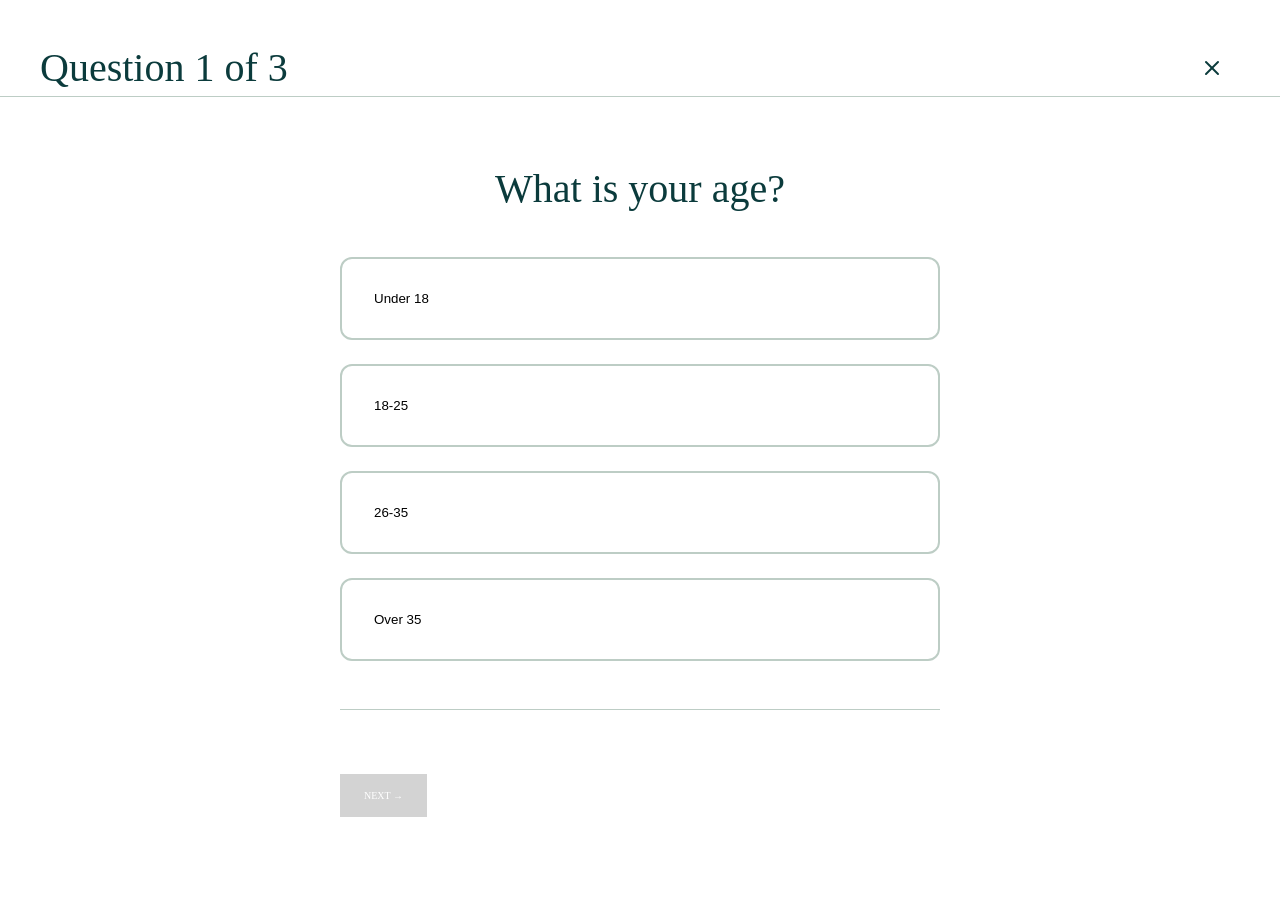
Scenario: QuestionaireModal › Question Navigation - Happy Path › shows results after completing all questions
Expected: the heading "What is your age?" is shown, [495,166,785,211]
Click the button "18-25": click(391, 406) [340,364,940,447]
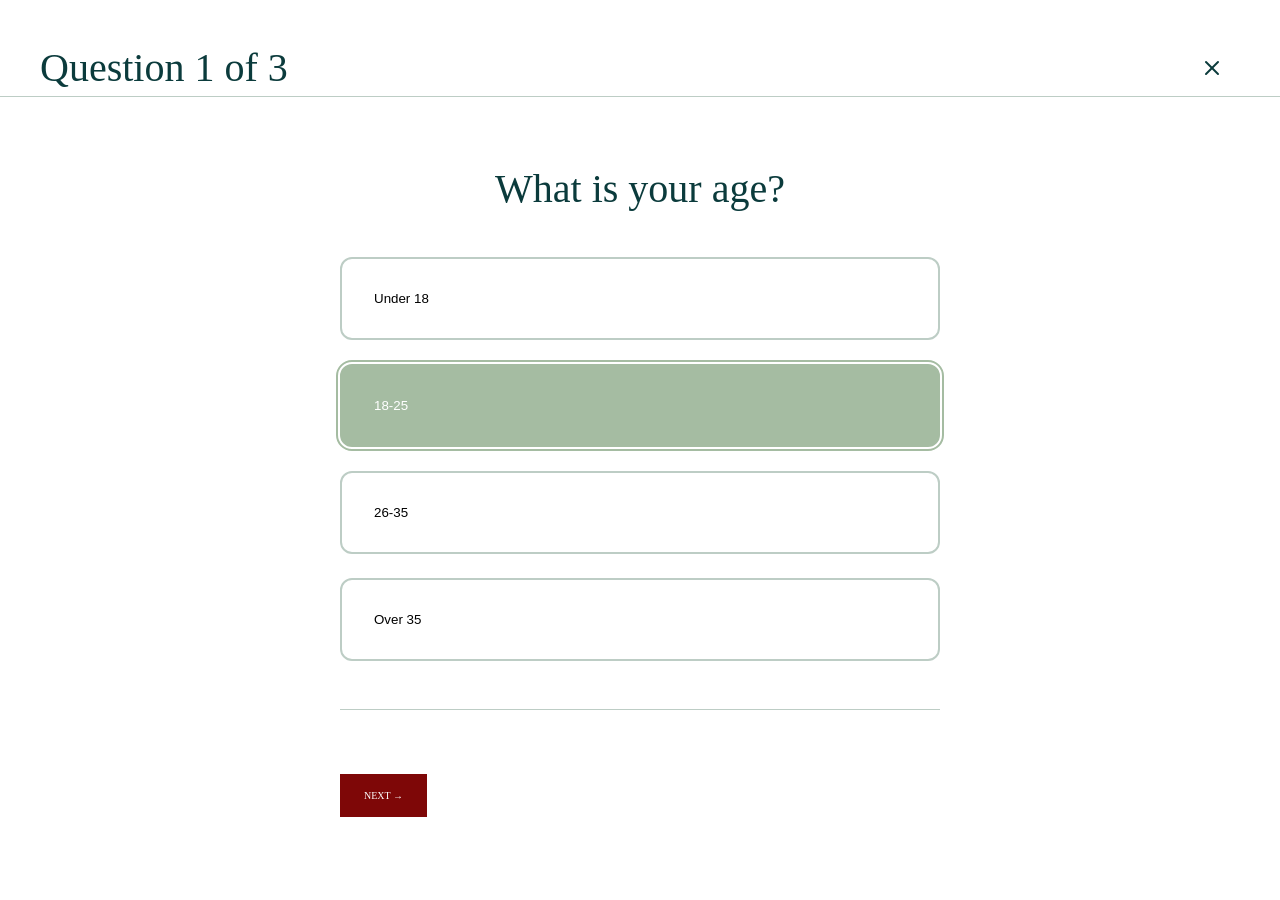
Click the button "Next →": click(384, 796) [340,774,427,817]
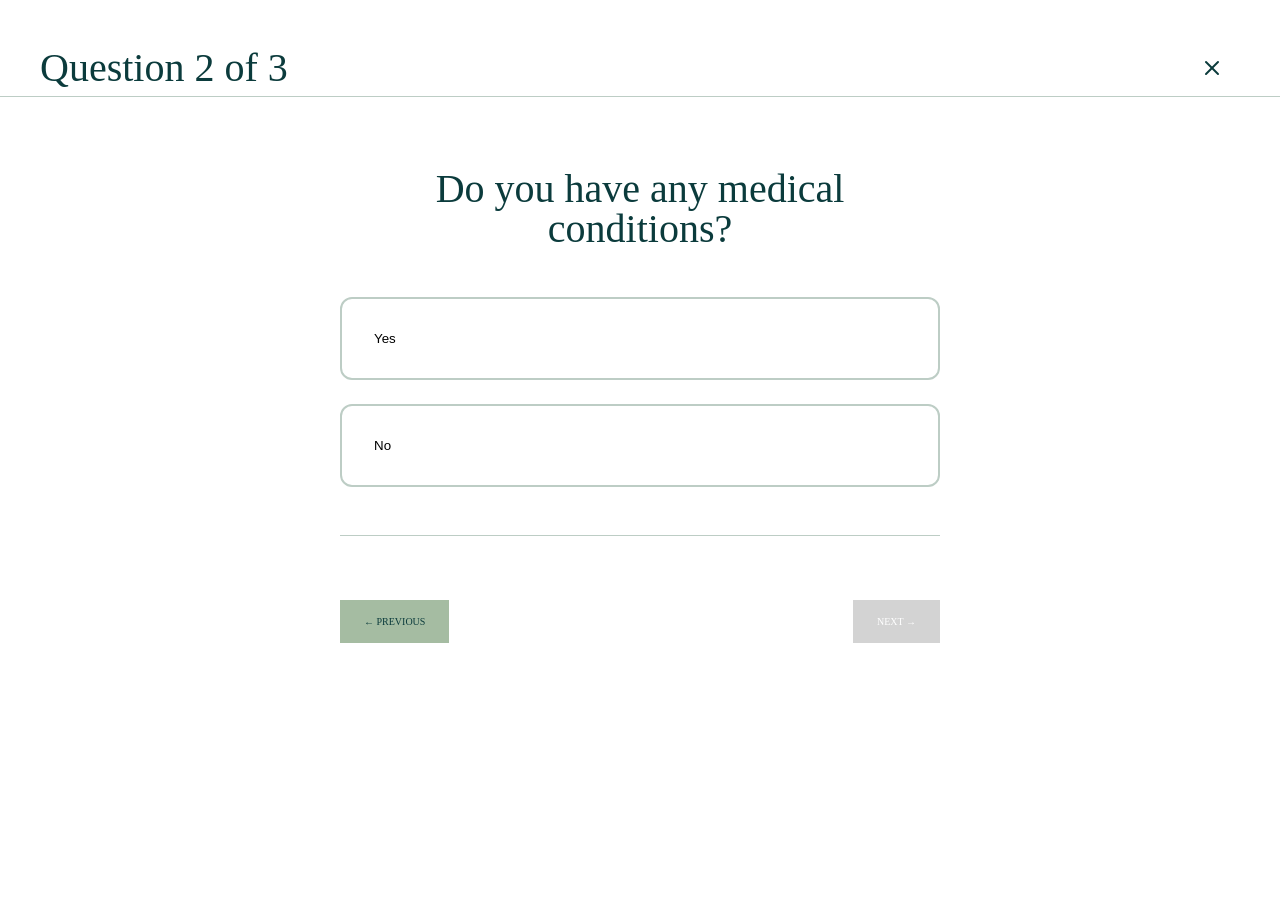
Click the button "No": click(383, 446) [340,404,940,487]
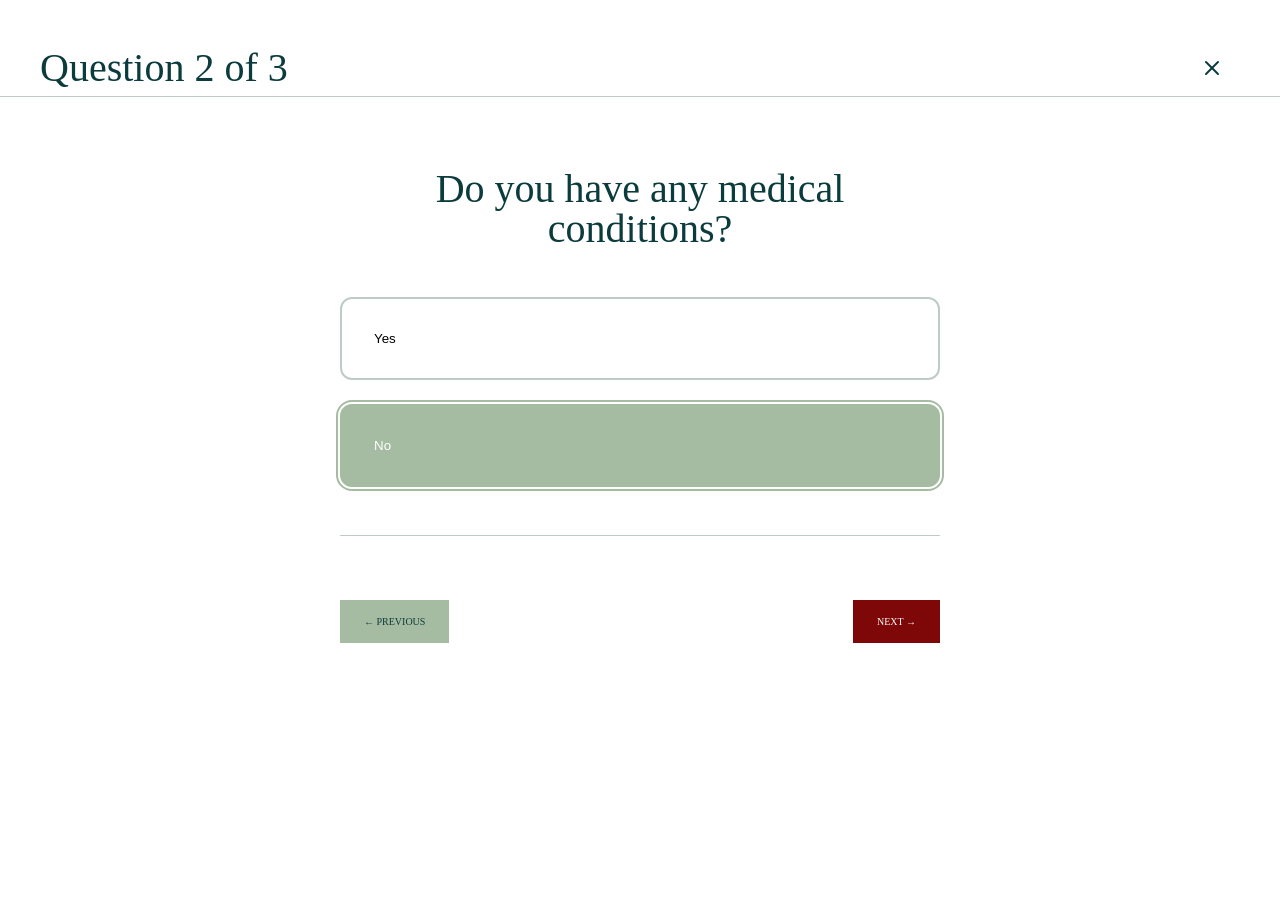
Click the button "Next →": click(896, 622) [853,600,940,643]
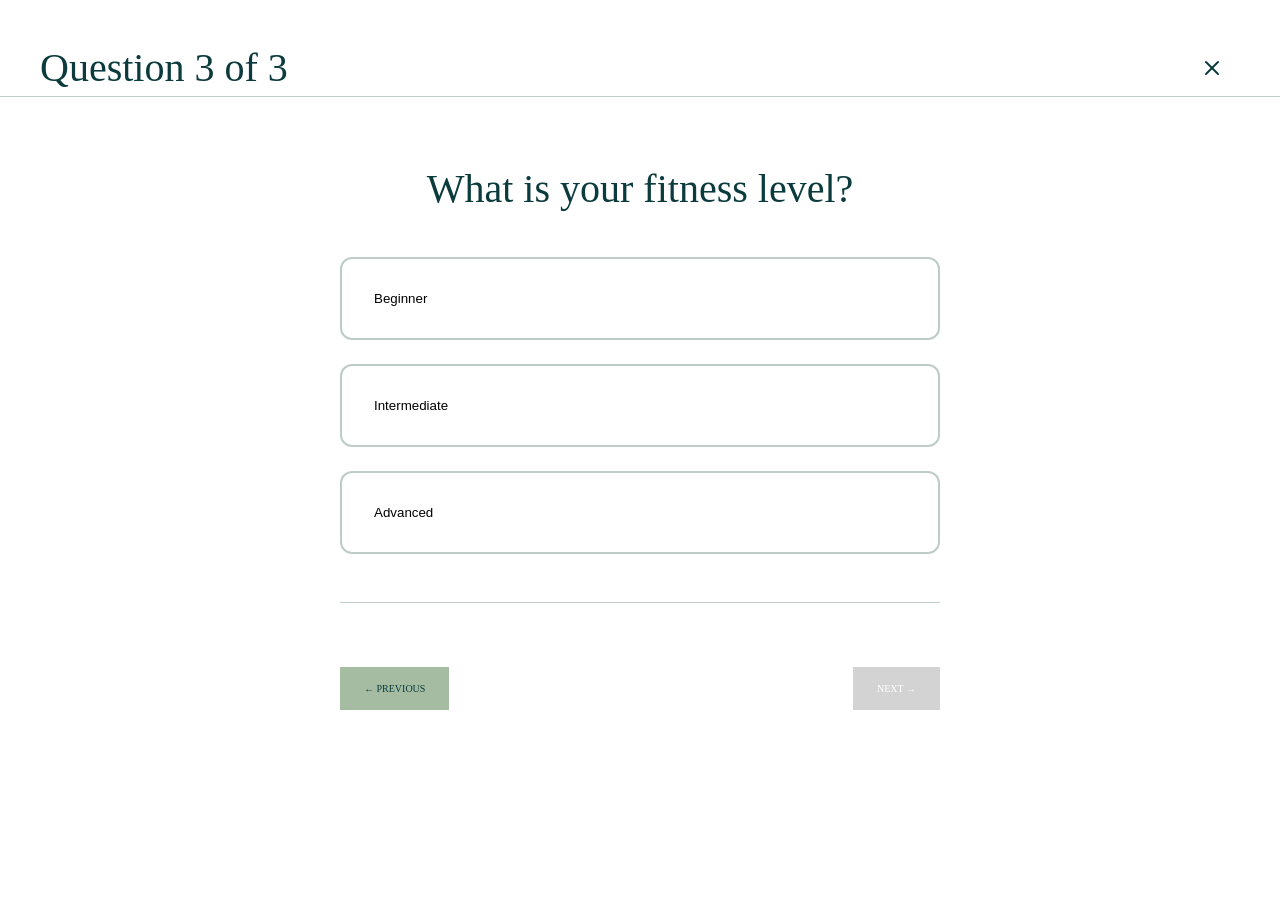
Click the button "Beginner": click(401, 298) [340,257,940,340]
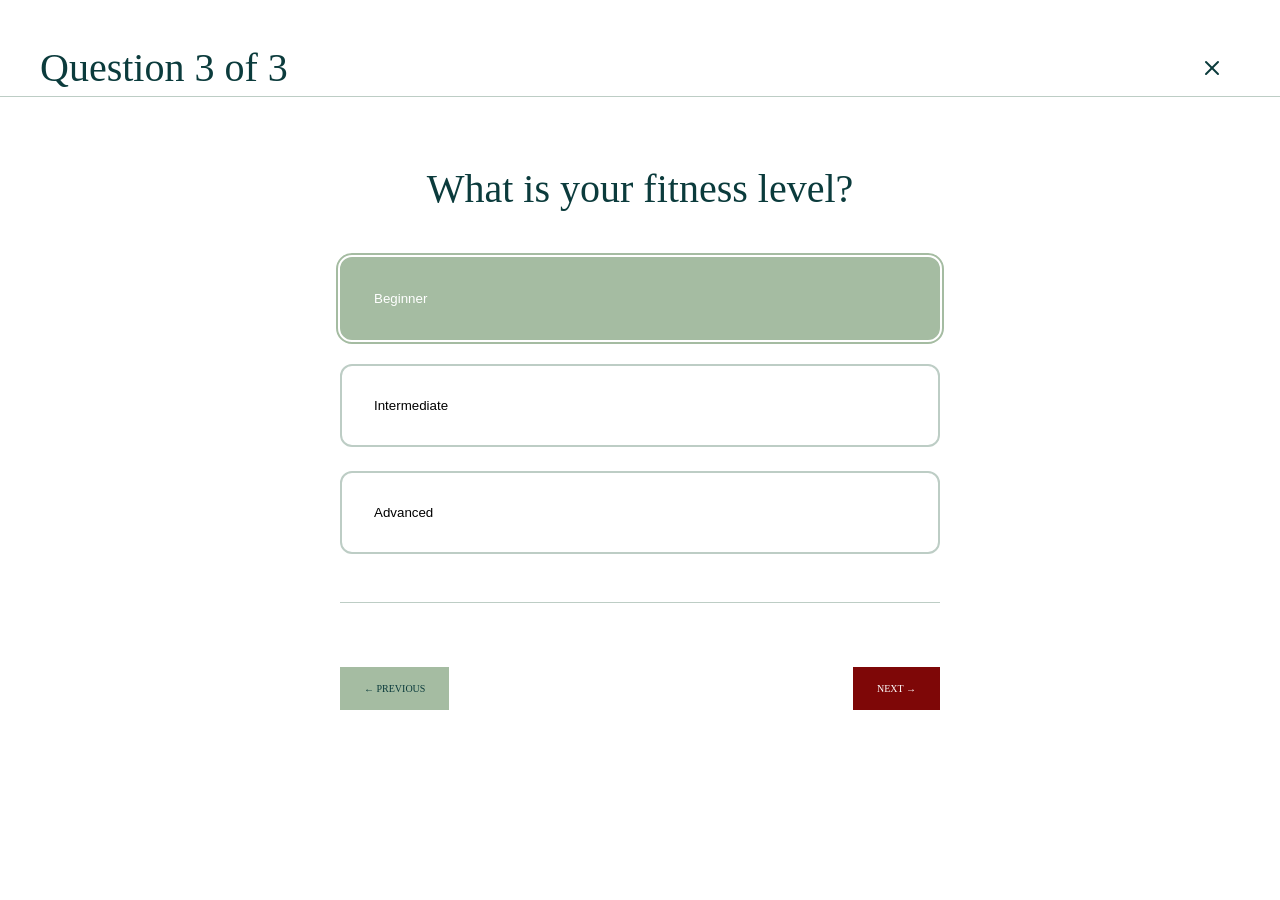
Click the button "Next →": click(896, 688) [853,667,940,710]
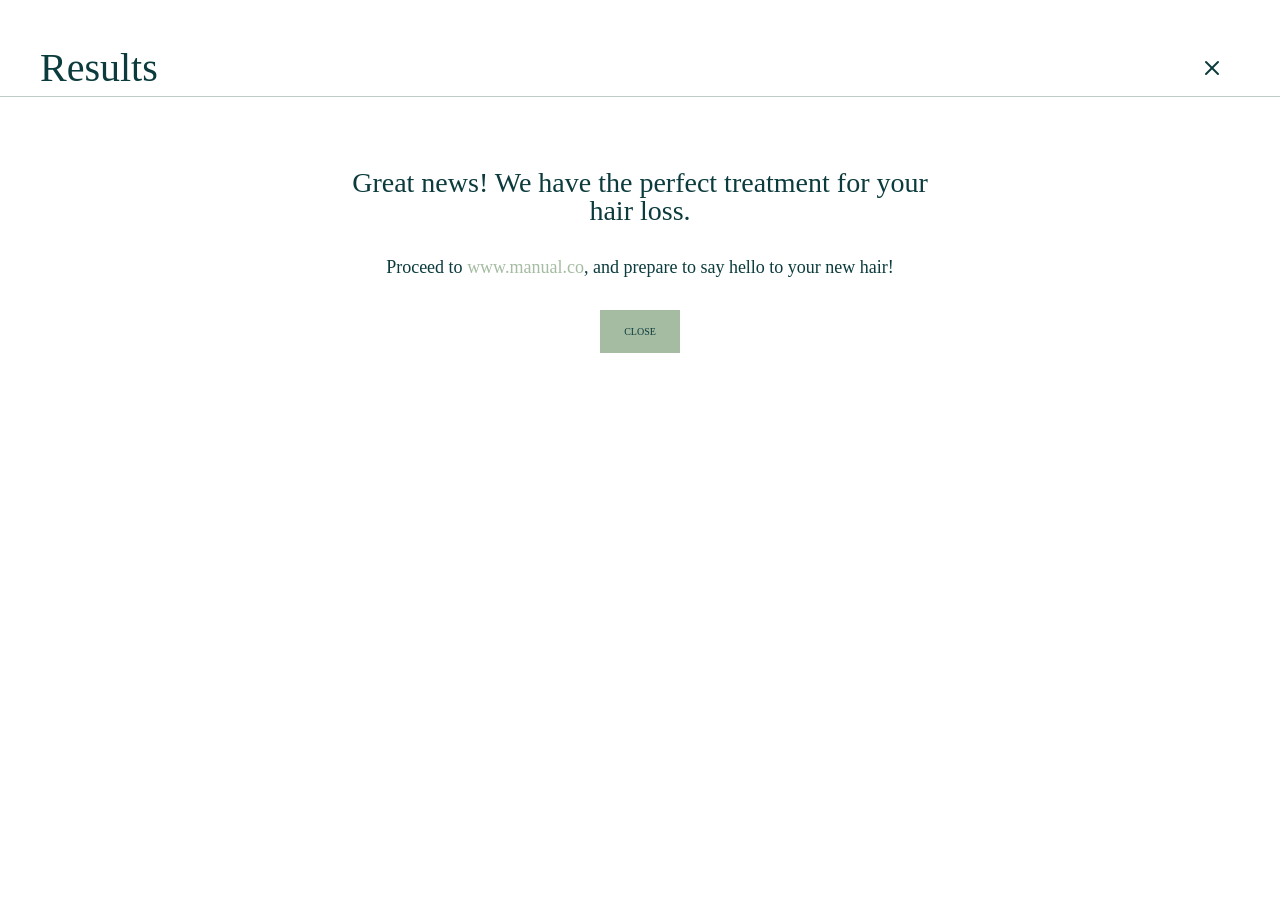
Now the heading "Results" is shown, box [40,48,158,88]
